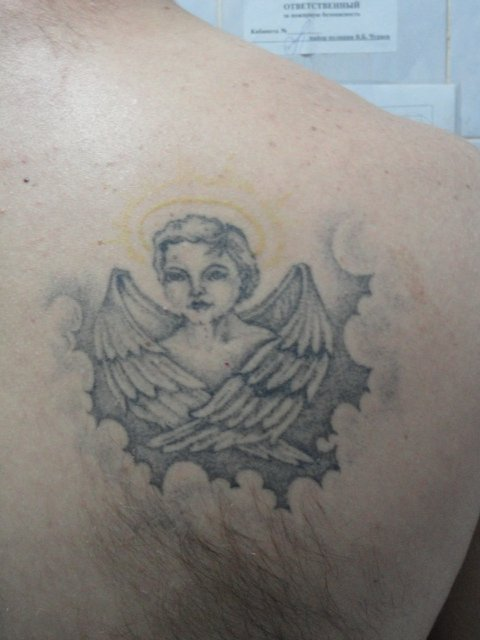tatu1_angel: (71, 173, 377, 508)
